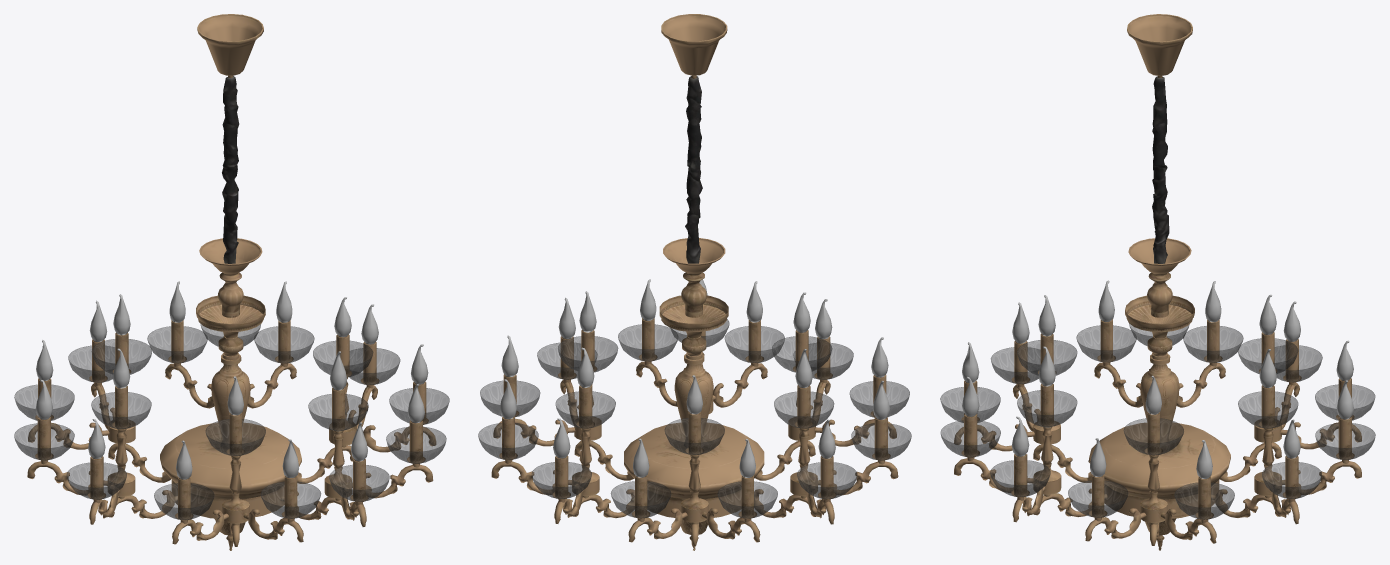
File: Chandelier_03.glb
3 renders of one model, left to right at view 1: azimuth 30°, elevation 25°; view 2: azimuth 150°, elevation 25°; view 3: azimuth 270°, elevation 25°, orthographic.
Visible parts, largest first — view 1: Chandelier_03; view 2: Chandelier_03; view 3: Chandelier_03.
Part boxes in pixels (x1,y1,x2,y2): Chandelier_03: (14, 14, 449, 550); Chandelier_03: (478, 14, 911, 550); Chandelier_03: (940, 14, 1375, 550).
Bounding box in the file's own units: 0.7804 × 1.04 × 0.7855.
Materials: 2 (2 with a texture image).
